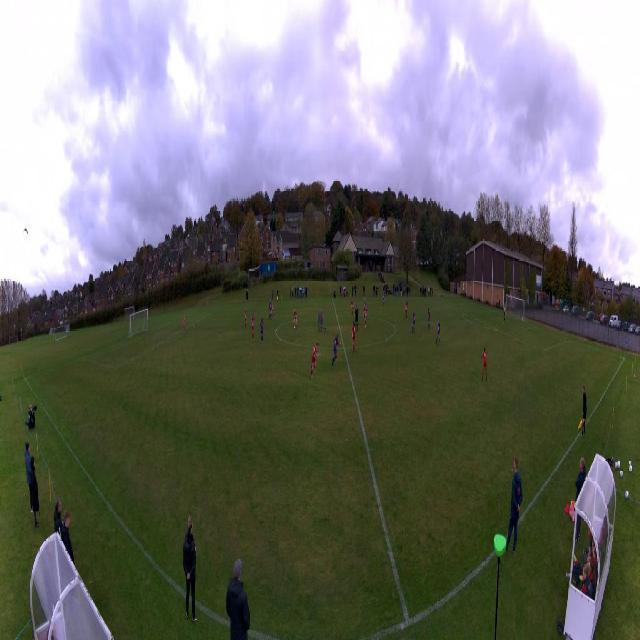ball: (294, 325, 296, 330)
player: (309, 340, 321, 378), (331, 334, 342, 366), (480, 348, 489, 380), (350, 321, 357, 352), (319, 309, 327, 333), (435, 319, 441, 346), (354, 305, 359, 332), (363, 303, 368, 328), (251, 315, 255, 342), (411, 307, 415, 334), (260, 318, 264, 344), (317, 310, 321, 332), (404, 299, 408, 320), (269, 300, 273, 321), (293, 309, 297, 329), (350, 298, 354, 317), (271, 301, 275, 320), (362, 298, 366, 316), (244, 309, 247, 330), (427, 308, 430, 329), (183, 315, 186, 334), (382, 290, 385, 307), (503, 306, 506, 321)
